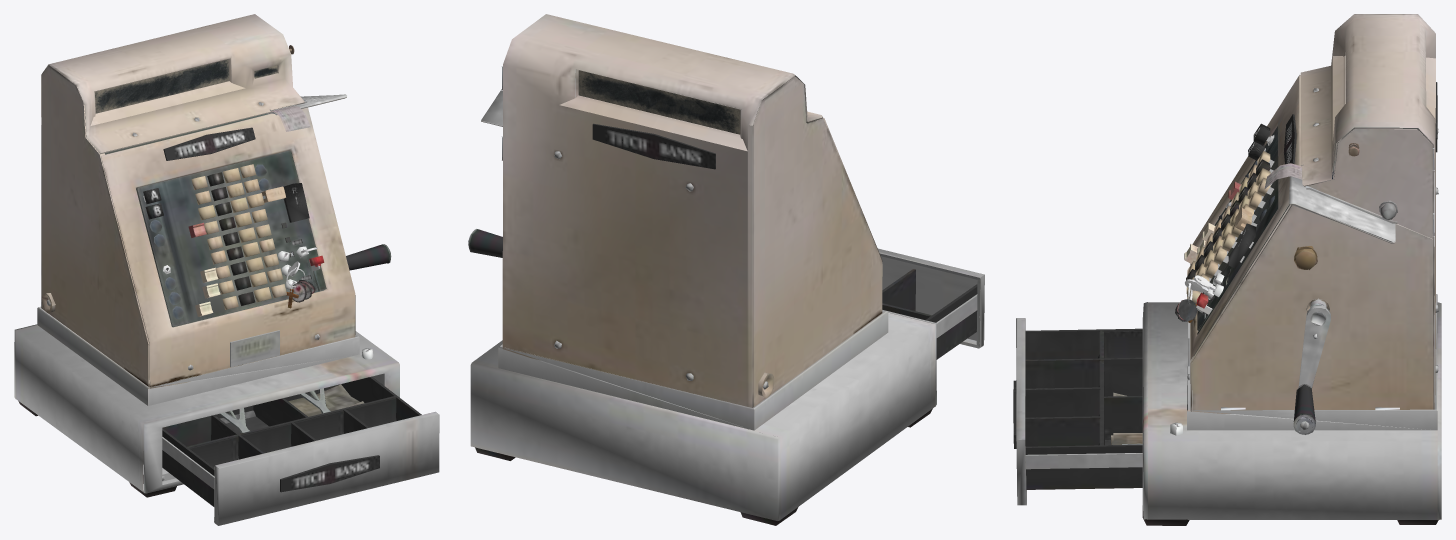
Rendered from ph_CashRegister_01.glb.
3 renders of one model, left to right at view 1: azimuth 30°, elevation 25°; view 2: azimuth 150°, elevation 25°; view 3: azimuth 270°, elevation 25°, orthographic. The views are drawn at different scales.
Visible parts, largest first — view 1: CashRegister_01_body; view 2: CashRegister_01_body; view 3: CashRegister_01_body.
Boxes of the visible parts, <box> form: CashRegister_01_body: <box>14,14,439,525</box>; CashRegister_01_body: <box>468,14,984,525</box>; CashRegister_01_body: <box>1013,14,1441,525</box>.
Bounding box in the file's own units: 0.599 × 0.621 × 0.6229.
2 materials, 2 textured.
